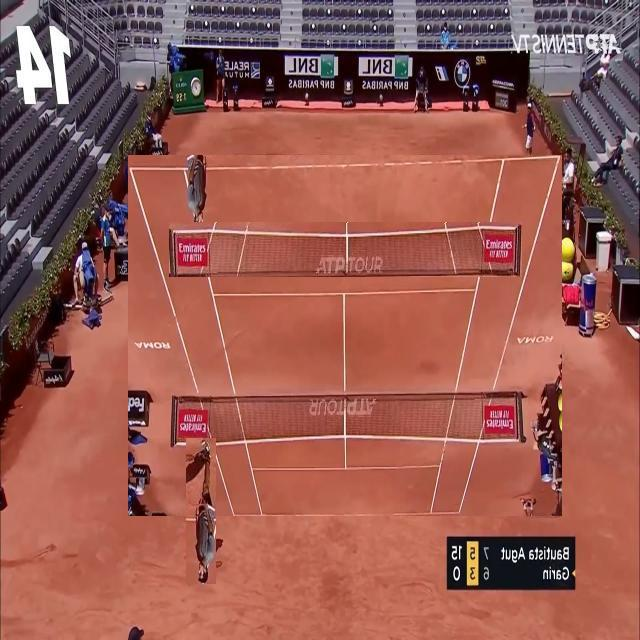court: (128, 155, 562, 518)
net: (170, 223, 524, 277)
player: (186, 439, 216, 584)
